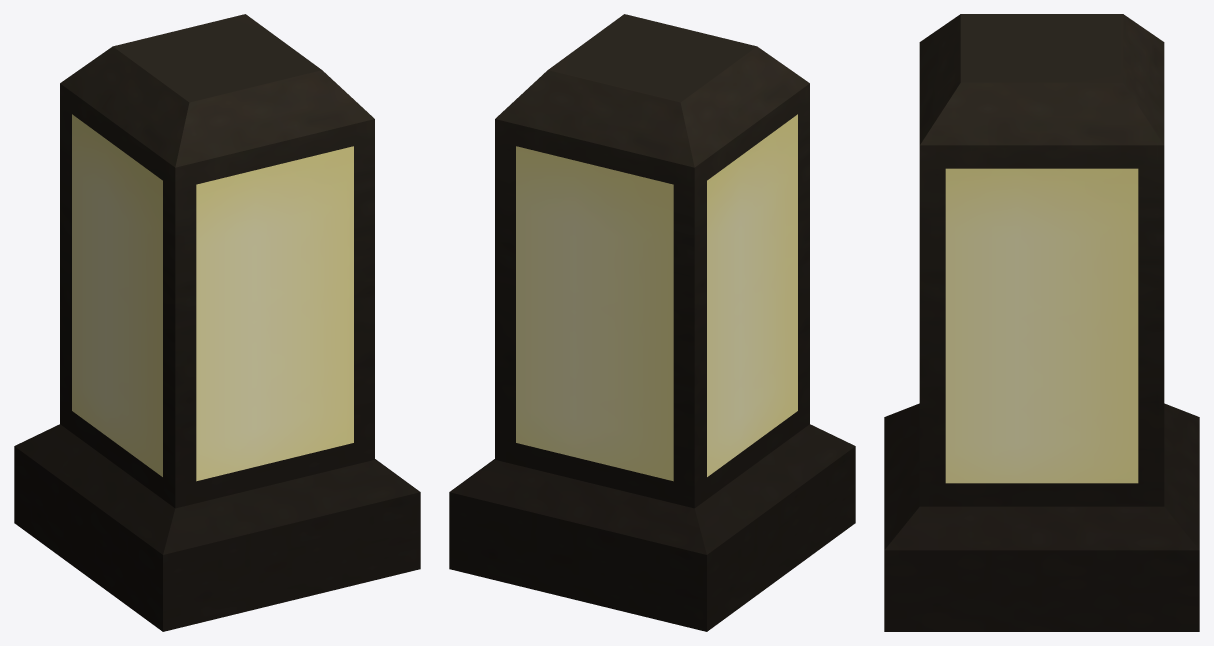
Rendered from Torch_02.FBX.
3 views of the same model, side by side, from view 1: azimuth 30°, elevation 25°; view 2: azimuth 150°, elevation 25°; view 3: azimuth 270°, elevation 25° (orthographic). The views are drawn at different scales.
Visible parts, largest first — view 1: Torch_02; view 2: Torch_02; view 3: Torch_02.
Boxes of the visible parts, <box> form: Torch_02: <box>14,14,420,631</box>; Torch_02: <box>449,14,855,631</box>; Torch_02: <box>884,14,1199,631</box>.
Size of the model in its own units: 0.2963 by 0.2963 by 0.5361.
